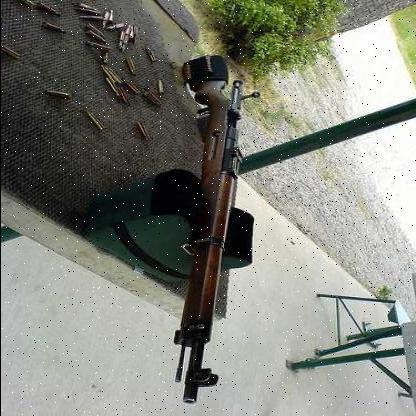rifle: (145, 51, 264, 412)
